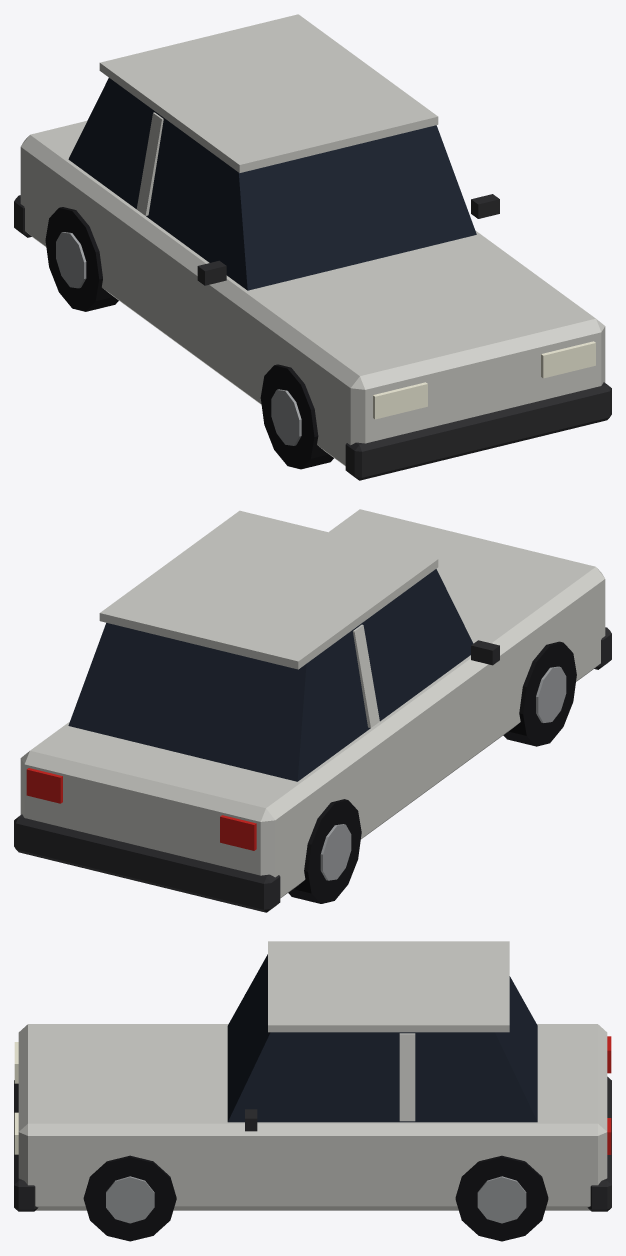
File: voiture_citadine.glb
3 views of the same model, one above another, from view 1: azimuth 30°, elevation 25°; view 2: azimuth 150°, elevation 25°; view 3: azimuth 270°, elevation 25° (orthographic). The views are drawn at different scales.
Parts seen in each view (by area): view 1: Caisse, Cabine, Toit, PareChocAv, Roue, Roue.002, Phare, Phare.001, Roue_jante, Roue_jante.002, Montant; view 2: Caisse, Cabine, Toit, PareChocAr, Roue, Roue.002, Roue_jante.002, Roue_jante, Montant, Feu, Feu.001, Retro; view 3: Caisse, Cabine, Toit, Roue.001, Roue.003, Roue_jante.003, Roue_jante.001, Montant, PareChocAr, PareChocAv.
Part boxes in pixels (bbox=[...]): Caisse: bbox=[20, 121, 605, 466]; Cabine: bbox=[68, 78, 476, 290]; Toit: bbox=[99, 14, 438, 172]; PareChocAv: bbox=[345, 382, 611, 480]; Roue: bbox=[260, 364, 333, 469]; Roue.002: bbox=[45, 207, 118, 311]; Phare: bbox=[373, 382, 427, 419]; Phare.001: bbox=[541, 341, 595, 378]; Roue_jante: bbox=[271, 389, 301, 445]; Roue_jante.002: bbox=[56, 232, 86, 288]; Montant: bbox=[136, 112, 163, 215]; Caisse: bbox=[20, 509, 605, 898]; Cabine: bbox=[68, 569, 473, 781]; Toit: bbox=[99, 510, 438, 669]; PareChocAr: bbox=[14, 814, 280, 912]; Roue: bbox=[503, 641, 576, 746]; Roue.002: bbox=[288, 799, 361, 903]; Roue_jante.002: bbox=[320, 824, 351, 880]; Roue_jante: bbox=[536, 666, 566, 722]; Montant: bbox=[353, 624, 379, 727]; Feu: bbox=[220, 815, 256, 850]; Feu.001: bbox=[26, 768, 62, 803]; Retro: bbox=[471, 640, 499, 665]; Caisse: bbox=[18, 1024, 607, 1210]; Cabine: bbox=[227, 954, 537, 1122]; Toit: bbox=[268, 941, 509, 1032]; Roue.001: bbox=[83, 1155, 176, 1241]; Roue.003: bbox=[455, 1155, 548, 1241]; Roue_jante.003: bbox=[477, 1176, 526, 1223]; Roue_jante.001: bbox=[106, 1176, 154, 1223]; Montant: bbox=[399, 1033, 415, 1121]; PareChocAr: bbox=[587, 1076, 611, 1211]; PareChocAv: bbox=[14, 1080, 38, 1211].
Size of the model in its own units: 1.9 by 1.44 by 3.86.
